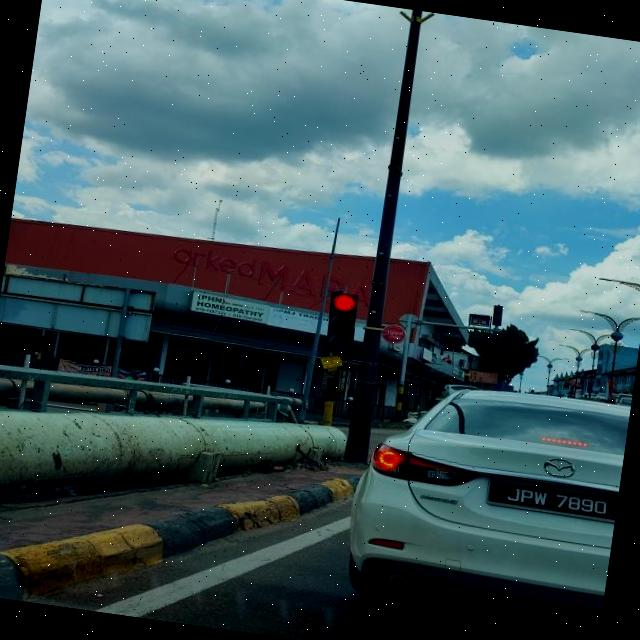red_light: (322, 290, 360, 356)
